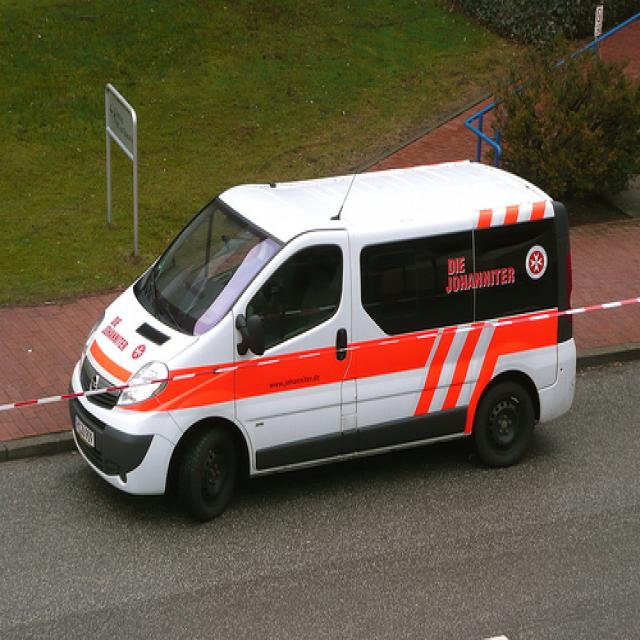emergency-vehicle: (64, 160, 572, 522)
